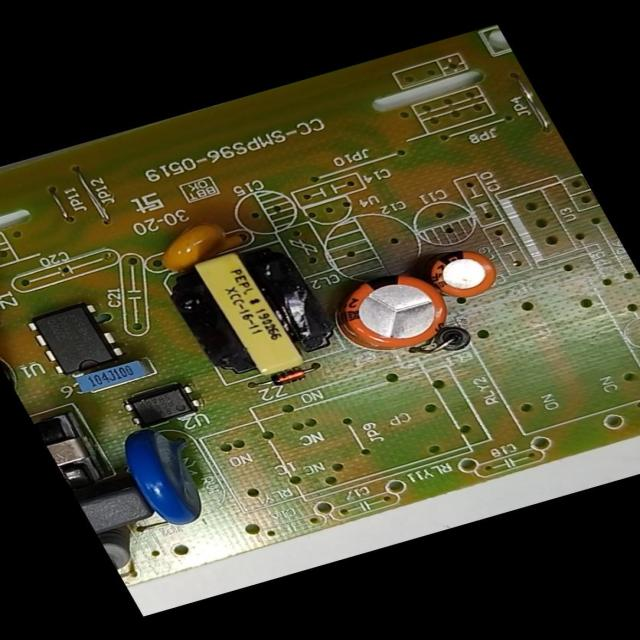Cap1: (313, 254, 469, 365)
Cap2: (409, 238, 513, 312)
MOSFET: (16, 290, 137, 385)
Mov: (99, 415, 239, 537)
Resistor: (97, 526, 154, 581)
Transformer: (146, 233, 352, 393), (28, 402, 117, 494)
